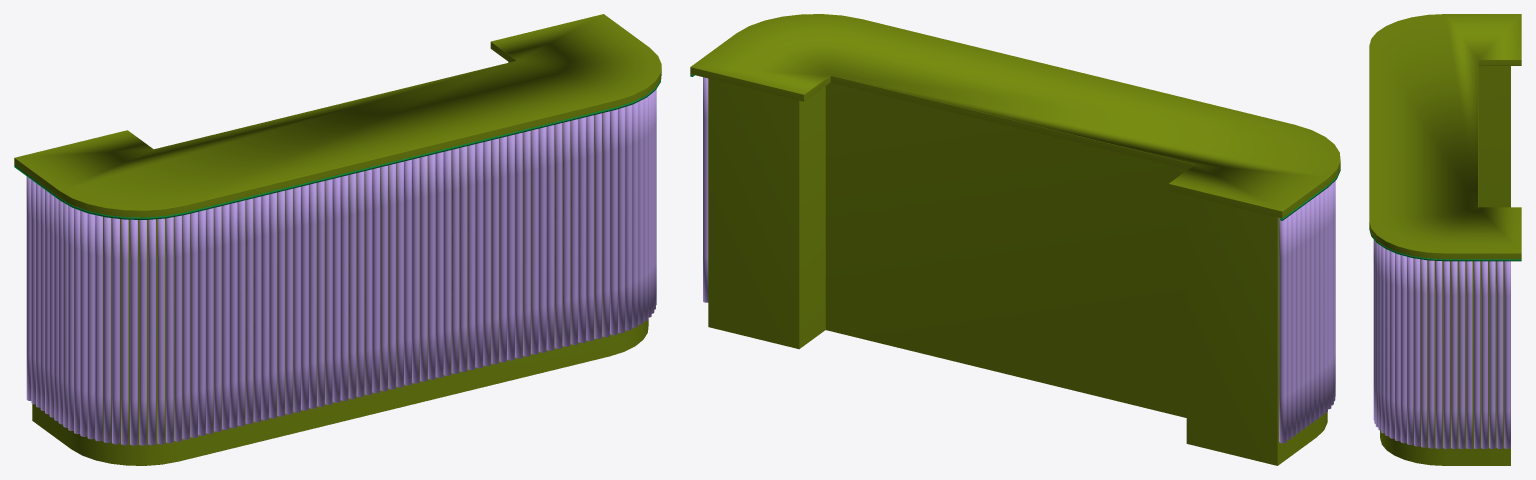
Rendered from uploads_files_5602703_obj.obj.
The picture shows the model from 3 angles, left to right: view 1: azimuth 30°, elevation 25°; view 2: azimuth 150°, elevation 25°; view 3: azimuth 270°, elevation 25°; orthographic projection. The views are drawn at different scales.
Visible parts, largest first — view 1: Rectangle003, Rectangle001, Line001, Cylinder087, Cylinder069, Cylinder068, Cylinder089, Cylinder072, Cylinder071, Cylinder070, Cylinder057, Cylinder056 (+76 smaller); view 2: Rectangle001, Rectangle003, Cylinder101, Cylinder002, Cylinder099, Cylinder097, Cylinder094, Cylinder098, Cylinder096, Cylinder095, Cylinder093, Cylinder100 (+3 smaller); view 3: Rectangle003, Rectangle001, Cylinder011, Cylinder008, Cylinder003, Cylinder012, Cylinder013, Cylinder014, Cylinder007, Cylinder002, Cylinder010, Cylinder009 (+14 smaller).
Boxes of the visible parts, x1,y1,x2,y2 form: Rectangle003: (14,14,661,217); Rectangle001: (32,62,648,465); Line001: (14,73,661,219); Cylinder087: (103,217,111,442); Cylinder069: (253,196,261,422); Cylinder068: (261,194,269,420); Cylinder089: (87,213,95,439); Cylinder072: (229,202,237,428); Cylinder071: (237,200,245,426); Cylinder070: (245,198,253,424); Cylinder057: (348,173,356,399); Cylinder056: (356,171,364,397); Rectangle001: (708,78,1327,465); Rectangle003: (690,14,1340,218); Cylinder101: (1279,217,1286,443); Cylinder002: (703,77,708,302); Cylinder099: (1291,211,1296,436); Cylinder097: (1300,204,1305,429); Cylinder094: (1314,194,1319,419); Cylinder098: (1296,208,1300,433); Cylinder096: (1305,201,1309,426); Cylinder095: (1310,198,1314,423); Cylinder093: (1319,191,1323,416); Cylinder100: (1287,214,1291,439); Rectangle003: (1369,14,1521,259); Rectangle001: (1380,66,1510,465); Cylinder011: (1435,261,1442,448); Cylinder008: (1458,261,1465,448); Cylinder003: (1496,261,1503,448); Cylinder012: (1428,260,1434,448); Cylinder013: (1421,259,1427,447); Cylinder014: (1414,258,1420,446); Cylinder007: (1466,261,1472,448); Cylinder002: (1504,261,1510,448); Cylinder010: (1443,261,1449,448); Cylinder009: (1451,261,1457,448).
Size of the model in its own units: 260 by 110 by 70.
